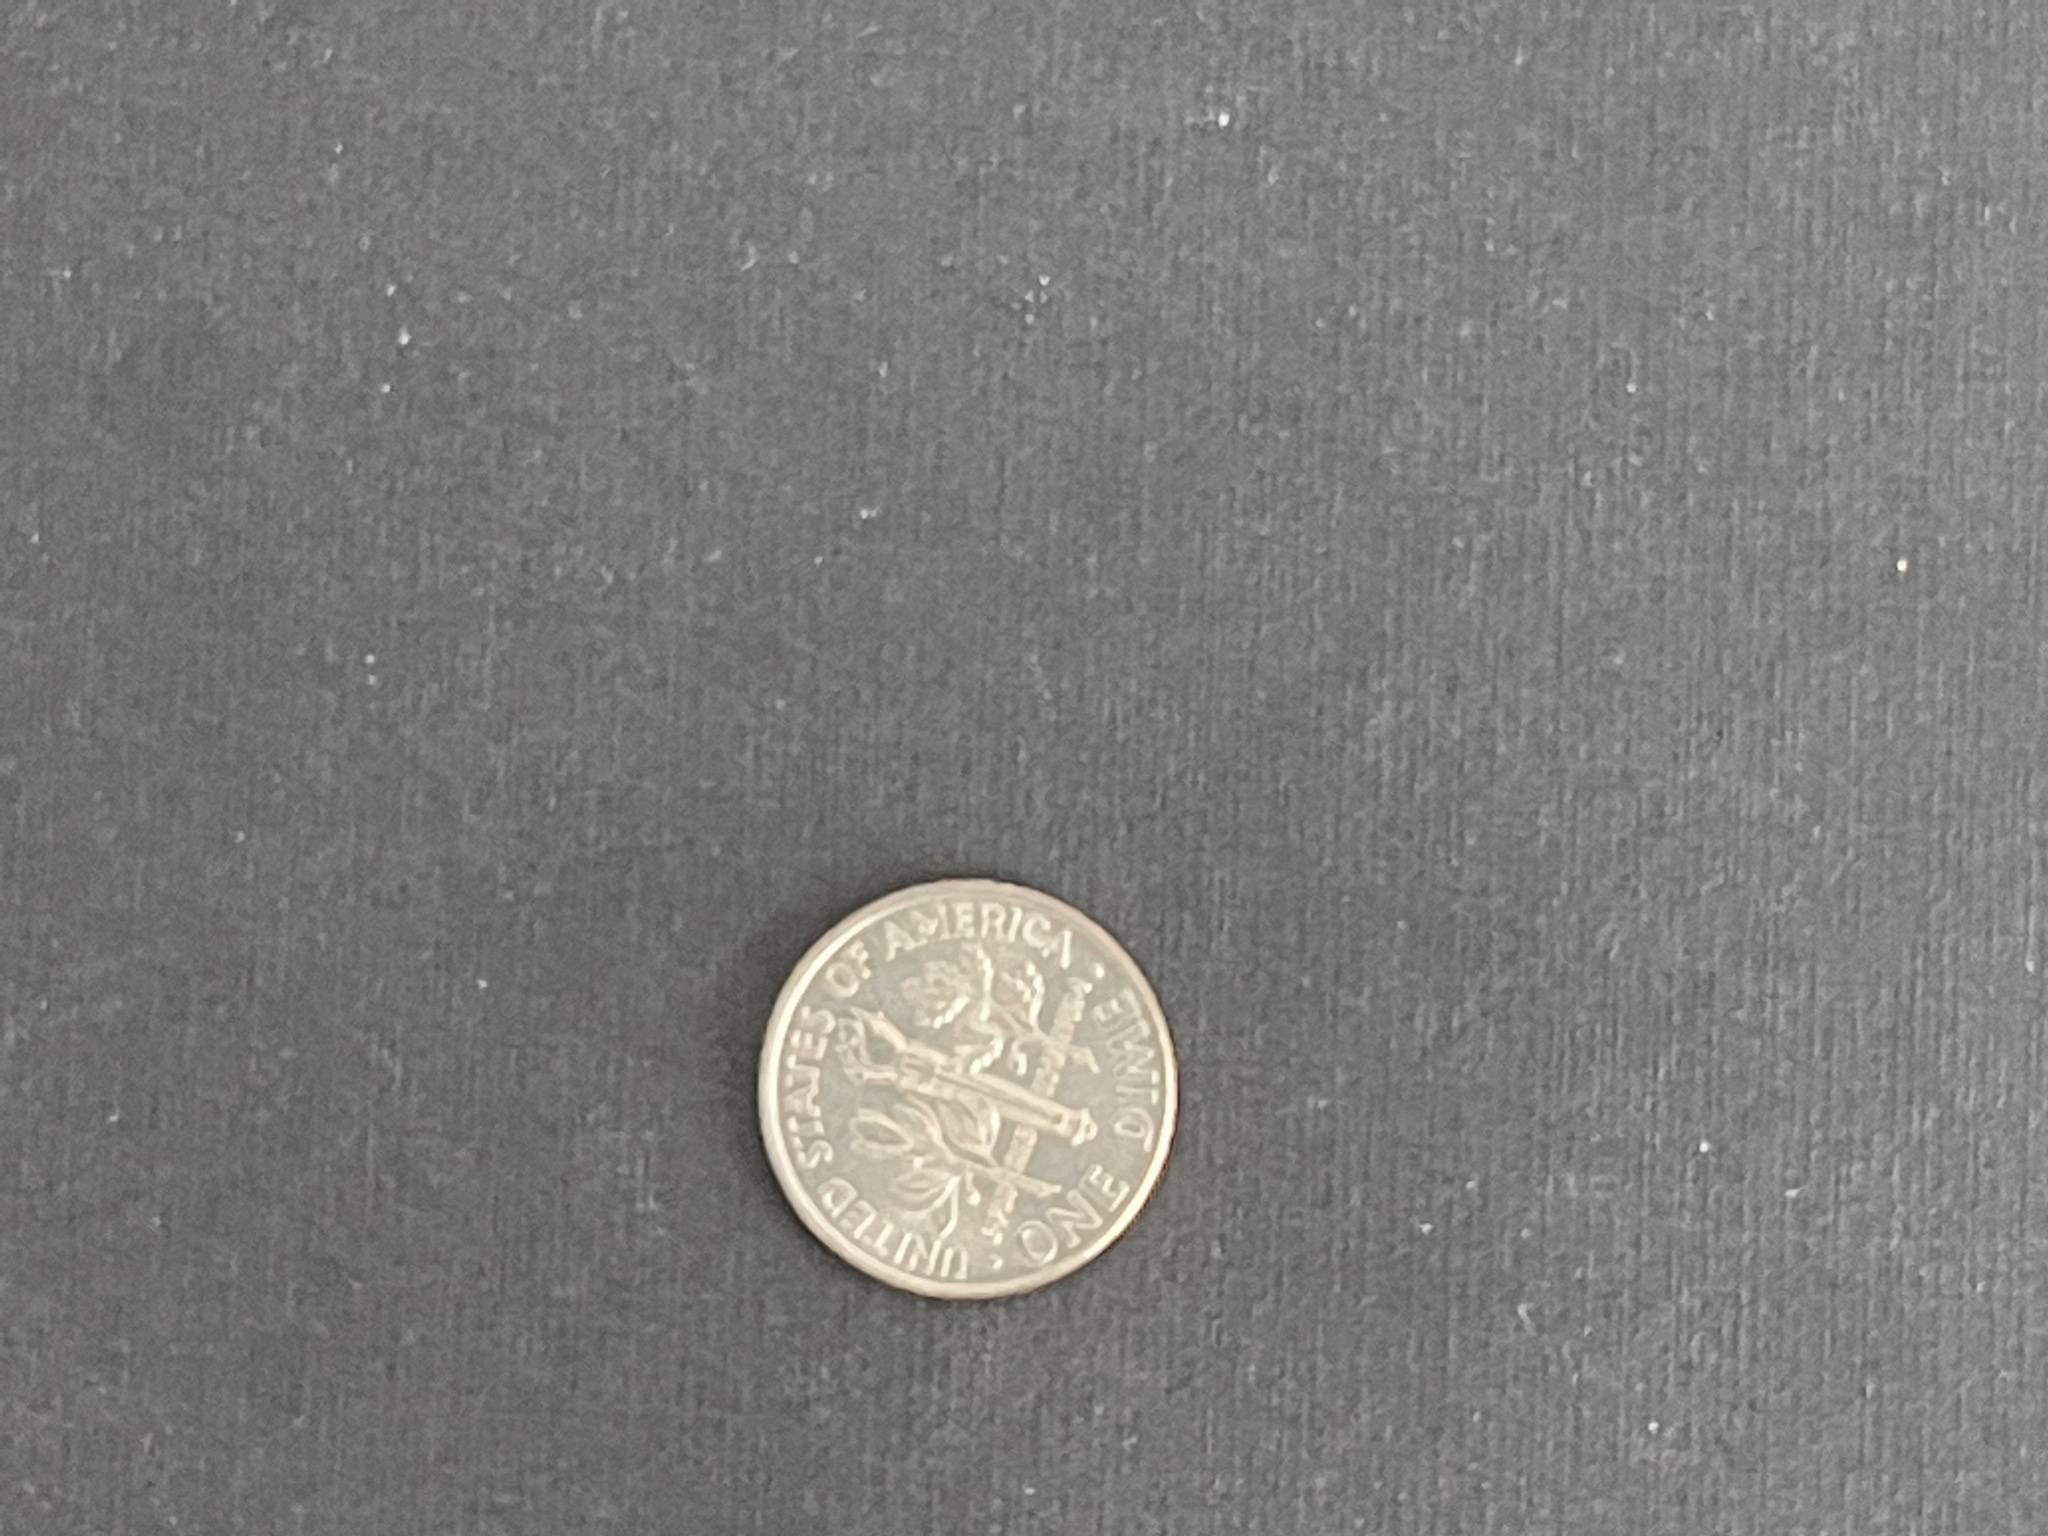dime: (751, 871, 1180, 1312)
